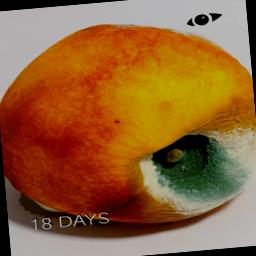Peach Rotten: (0, 9, 256, 235)
